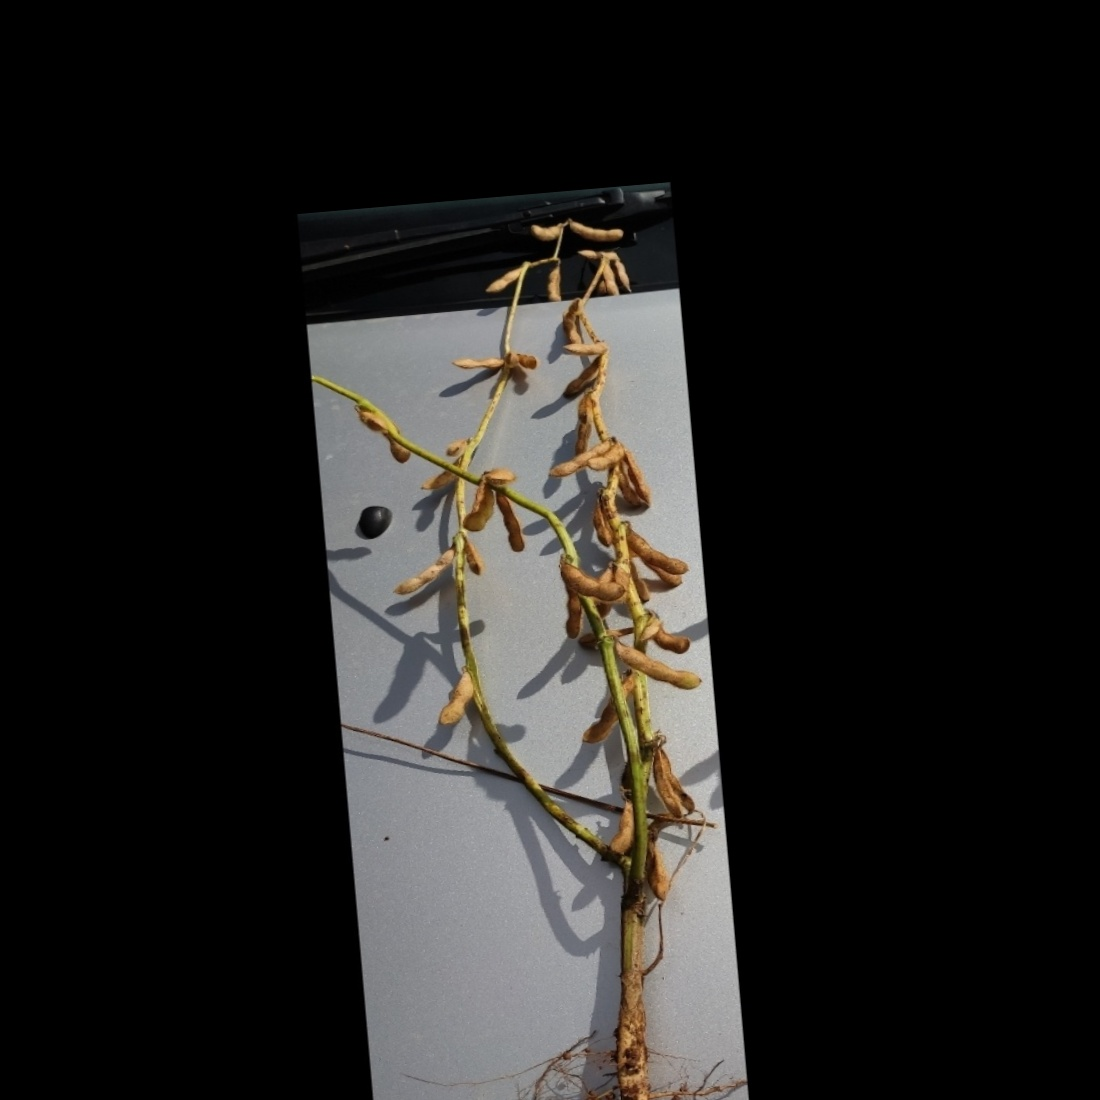pod: (613, 635, 703, 696), (626, 516, 694, 580), (384, 539, 457, 598), (558, 555, 628, 606), (543, 432, 615, 479), (559, 208, 630, 250), (490, 486, 527, 565), (433, 669, 477, 732), (607, 796, 641, 856), (450, 350, 509, 377), (480, 263, 529, 295), (539, 262, 565, 311), (550, 339, 608, 361)
soy: (323, 196, 747, 1100)
